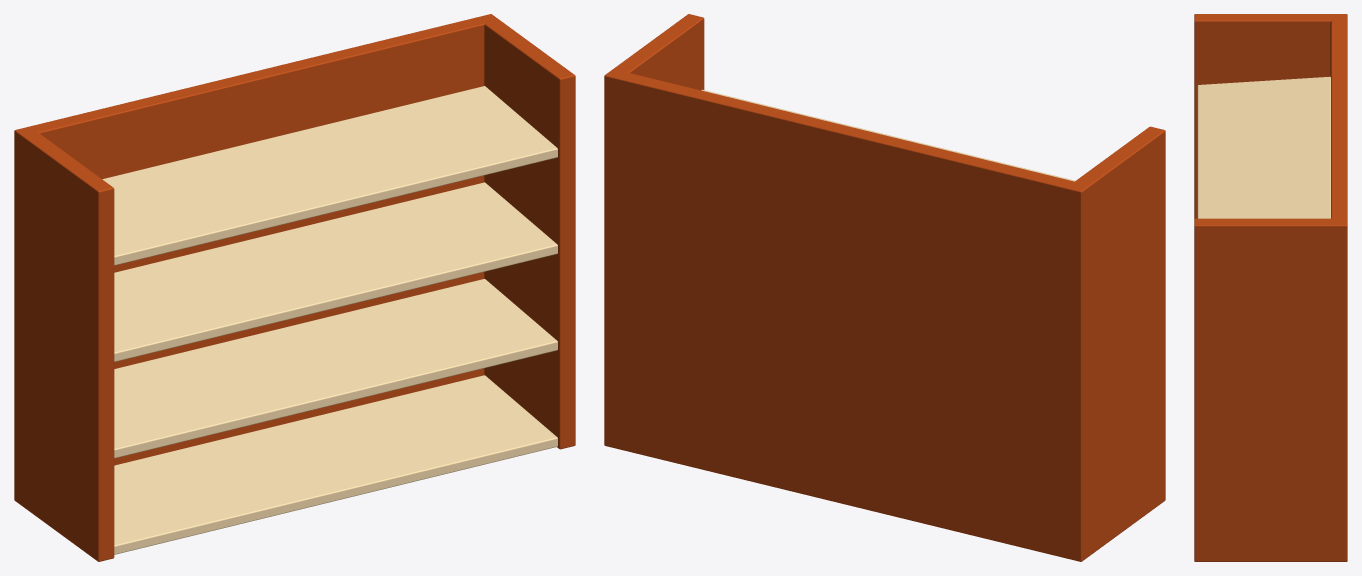
The model's file is shelf.glb.
3 views of the same model, side by side, from view 1: azimuth 30°, elevation 25°; view 2: azimuth 150°, elevation 25°; view 3: azimuth 270°, elevation 25° (orthographic). The views are drawn at different scales.
Visible parts, largest first — view 1: Cube.017, Cube.016; view 2: Cube.016; view 3: Cube.016, Cube.017.
Boxes of the visible parts, left/top/right/bottom form: Cube.017: left=102, top=86, right=557, bottom=554; Cube.016: left=14, top=14, right=575, bottom=561; Cube.016: left=604, top=14, right=1165, bottom=561; Cube.016: left=1194, top=14, right=1347, bottom=561; Cube.017: left=1197, top=76, right=1330, bottom=218.
Bounding box in the file's own units: 2.92 × 2.17 × 0.8947.
